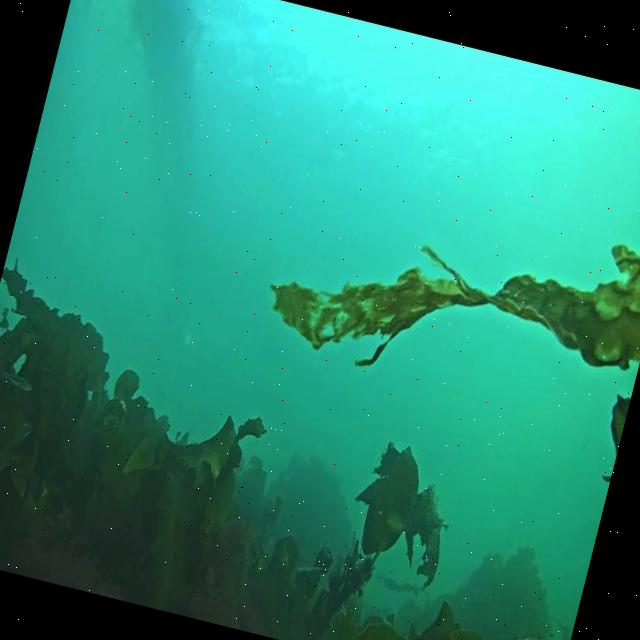fish: (0, 365, 36, 395)
